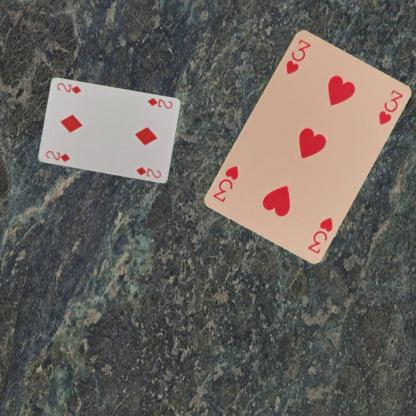2d: (43, 148, 71, 164), (145, 95, 173, 110)
3h: (304, 214, 334, 255), (283, 36, 312, 76)
